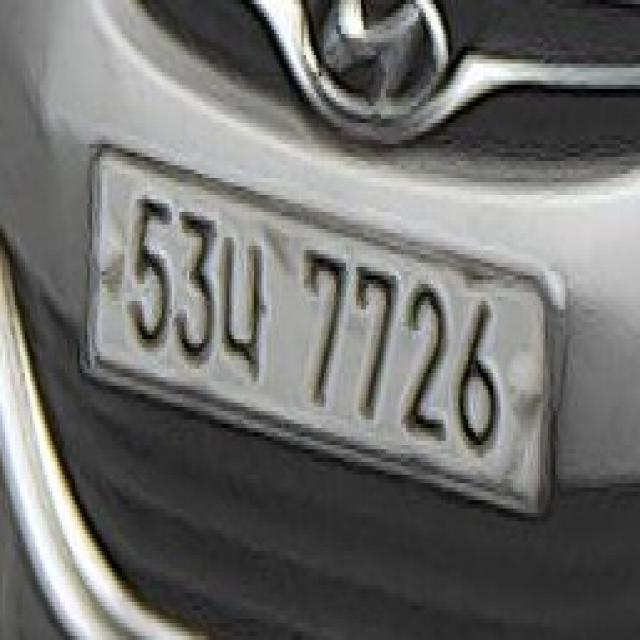2: (396, 267, 451, 449)
3: (172, 195, 222, 373)
5: (130, 182, 174, 348)
6: (453, 288, 508, 471)
7: (289, 241, 351, 424), (356, 238, 399, 437)
license_plate: (90, 136, 560, 521)
na: (219, 225, 269, 382)
